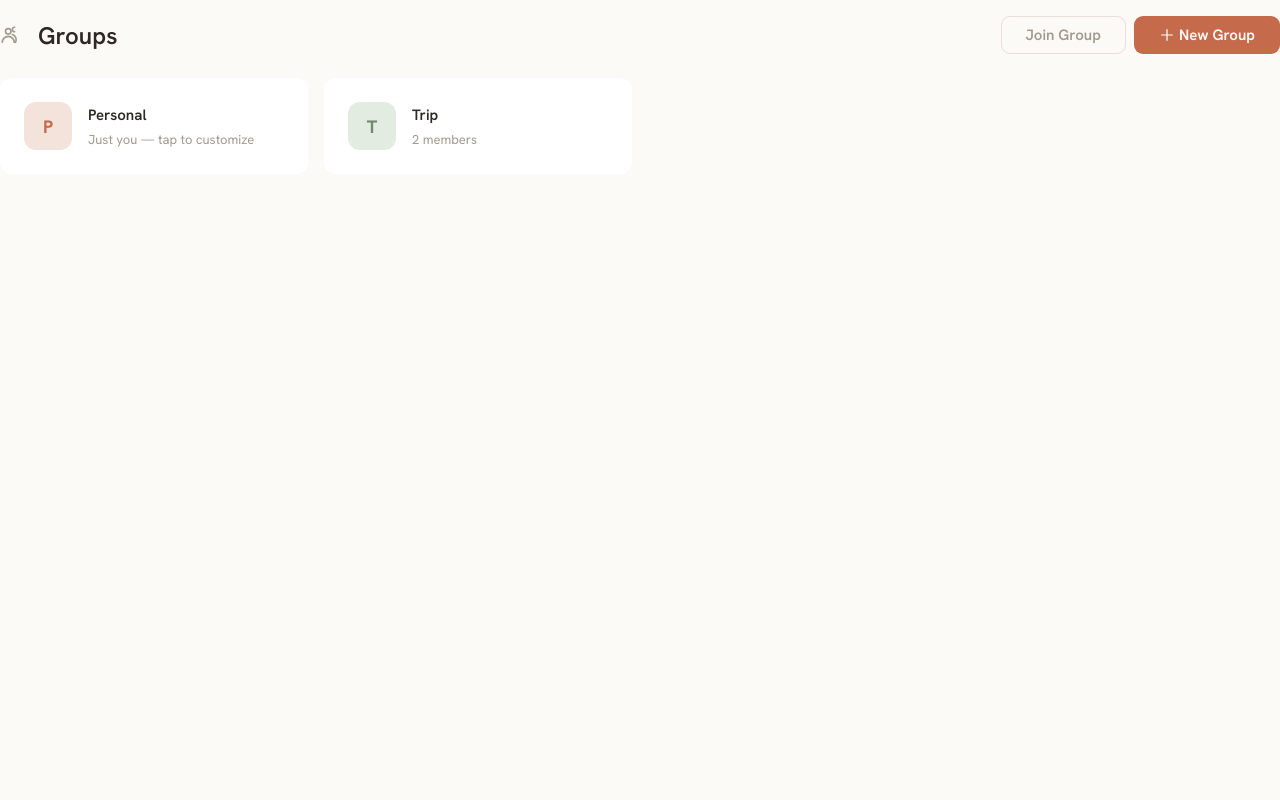
Test: GroupsPage › opens the join-group modal
Click the button "Join Group".
click(1063, 35)  # box top-left (1000, 16), bottom-right (1126, 54)
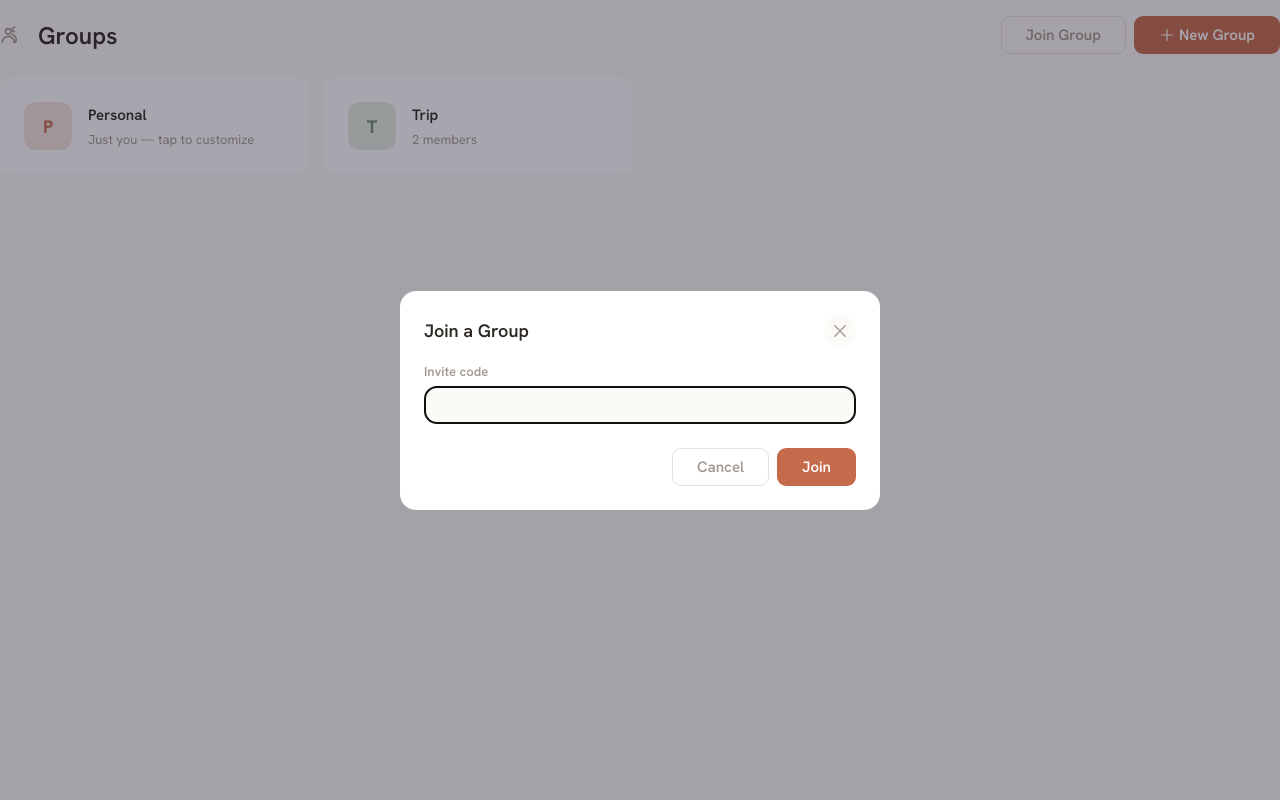
Expected: the heading "Join a Group" is shown, top-left (424, 319), bottom-right (529, 342)
